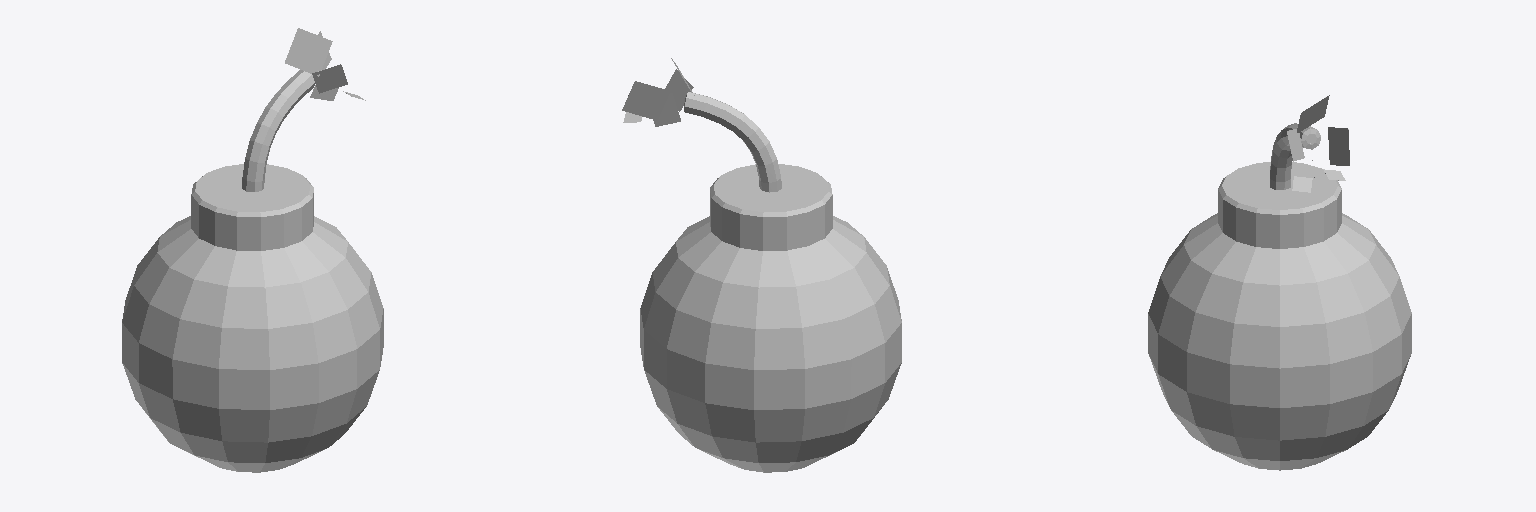
The model's file is bomb_000018.obj.
The picture shows the model from 3 angles: view 1: azimuth 30°, elevation 25°; view 2: azimuth 150°, elevation 25°; view 3: azimuth 270°, elevation 25°; orthographic projection.
Parts seen in each view (by area): view 1: Sphere, NurbsPath, Plane_5.001_Mesh.001; view 2: Sphere, NurbsPath, Plane_5.001_Mesh.001; view 3: Sphere, Plane_5.001_Mesh.001, NurbsPath.
Part boxes in pixels (left/top/right/bottom): Sphere: left=122, top=164, right=383, bottom=472; NurbsPath: left=242, top=70, right=315, bottom=191; Plane_5.001_Mesh.001: left=285, top=28, right=365, bottom=100; Sphere: left=640, top=164, right=901, bottom=472; NurbsPath: left=684, top=92, right=781, bottom=192; Plane_5.001_Mesh.001: left=622, top=58, right=694, bottom=126; Sphere: left=1148, top=162, right=1411, bottom=470; Plane_5.001_Mesh.001: left=1287, top=95, right=1349, bottom=192; NurbsPath: left=1270, top=123, right=1320, bottom=189.
Bounding box in the file's own units: 0.9095 × 1.43 × 0.8848.